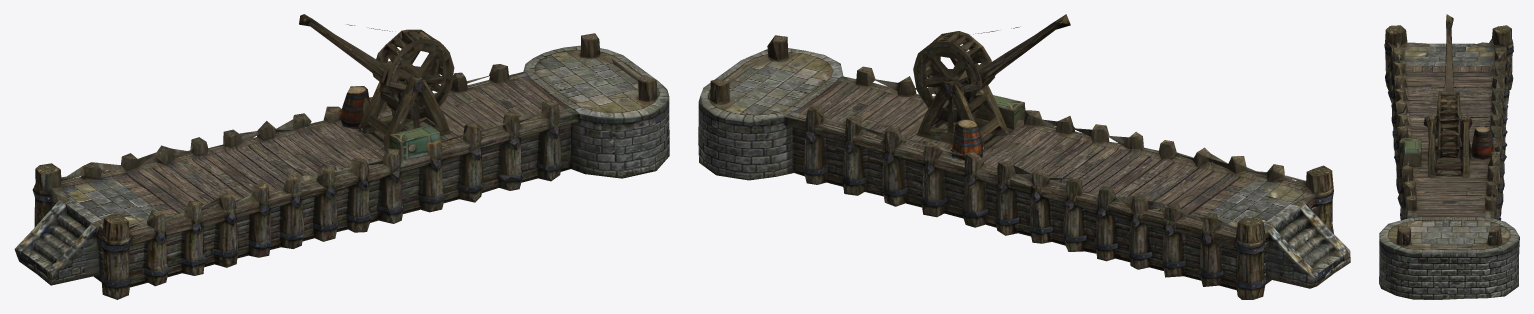
The model's file is pier.glb.
3 views of the same model, side by side, from view 1: azimuth 30°, elevation 25°; view 2: azimuth 150°, elevation 25°; view 3: azimuth 270°, elevation 25° (orthographic). The views are drawn at different scales.
Visible parts, largest first — view 1: pier_export; view 2: pier_export; view 3: pier_export.
Part boxes in pixels (x1,y1,x2,y2): pier_export: (14, 14, 669, 299); pier_export: (698, 14, 1350, 299); pier_export: (1379, 14, 1519, 299).
Bounding box in the file's own units: 60 × 19.06 × 15.41.
Materials: 1 (1 with a texture image).
